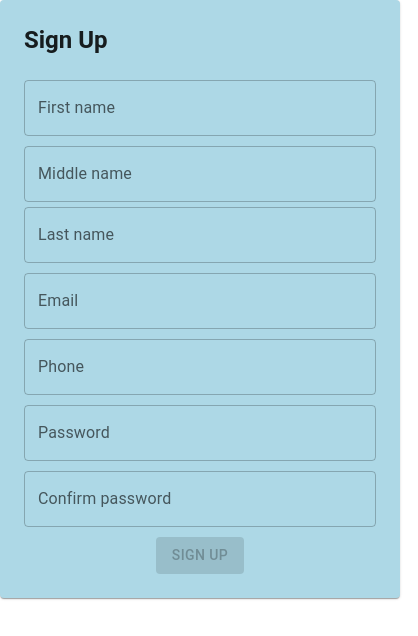
Test: SignUpForm › displays validation errors on invalid form submit
Type "2" into the field with placeholder "example@gmail.com".
click(200, 301); type("2")  # box [24,273,376,329]
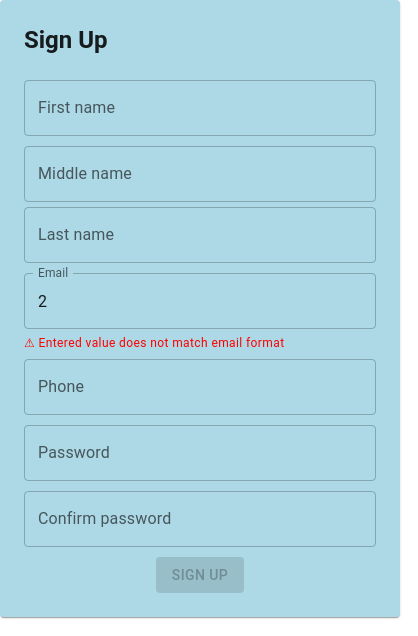
Expected: the button with test id "signUp-stub" is disabled, [156,557,244,593]
Result: the text "⚠ Entered value does not match email format" is shown at [24,336,284,350]
